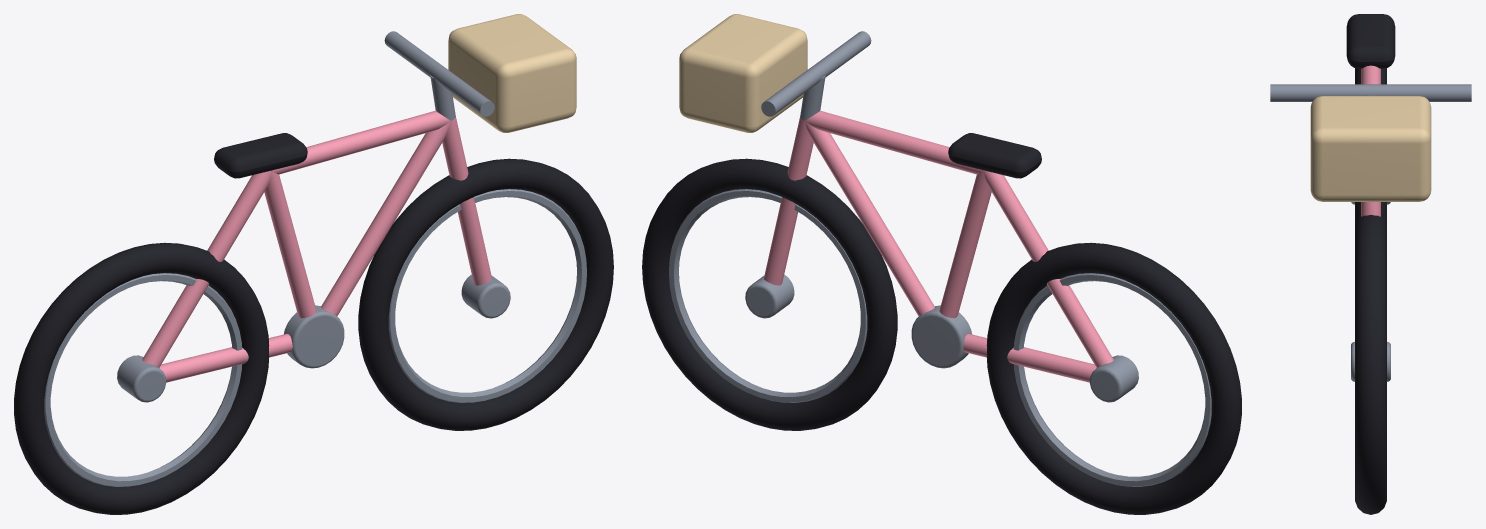
File: bicycle.glb
3 views of the same model, side by side, from view 1: azimuth 30°, elevation 25°; view 2: azimuth 150°, elevation 25°; view 3: azimuth 270°, elevation 25° (orthographic). The views are drawn at different scales.
Visible parts, largest first — view 1: bicycle; view 2: bicycle; view 3: bicycle.
Boxes of the visible parts, <box> form: bicycle: <box>14,14,613,514</box>; bicycle: <box>642,14,1241,514</box>; bicycle: <box>1270,14,1471,514</box>.
Size of the model in its own units: 1.8 by 1.1 by 0.5.
Materials: 1 (1 with a texture image).
